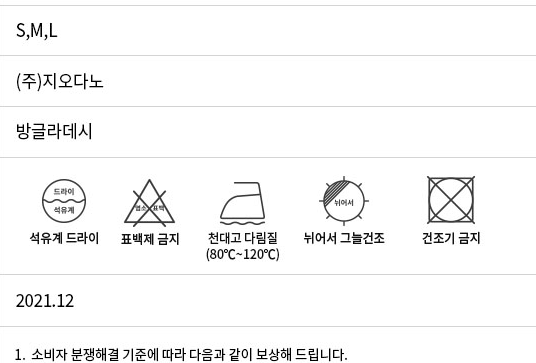KR_dry_clean_petroleum: (36, 172, 90, 226)
KR_flat_dry_in_shade: (314, 174, 371, 228)
KR_no_chlorine_bleach: (120, 172, 177, 231)
KR_no_tumble_dry: (422, 172, 479, 228)
